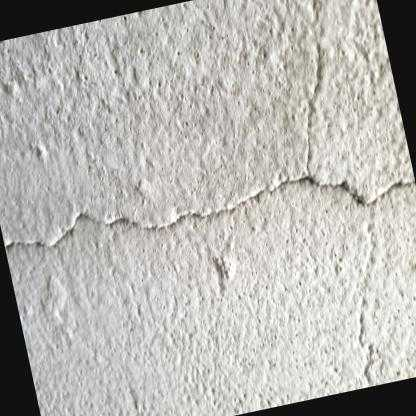crack: (2, 0, 416, 252)
